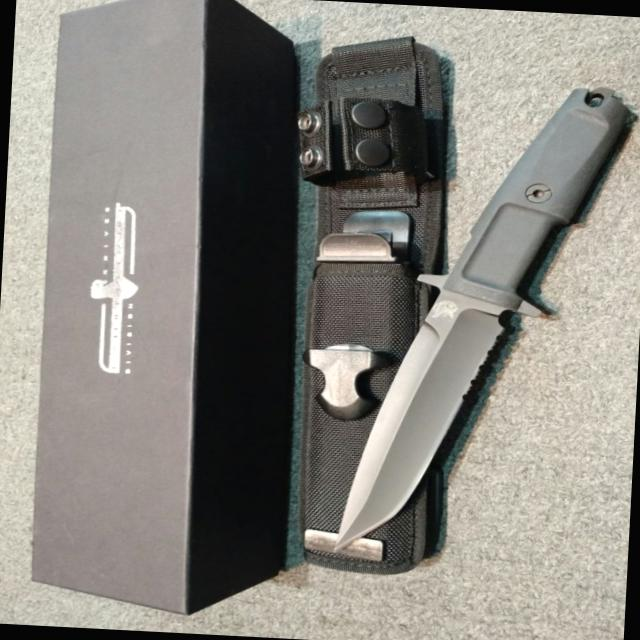knife: (317, 252, 559, 576)
